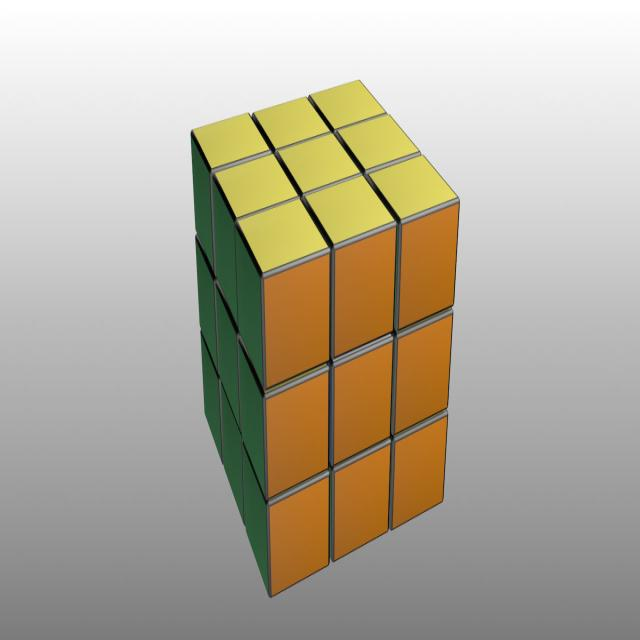Cubo-Resuelto: (190, 80, 459, 596)
